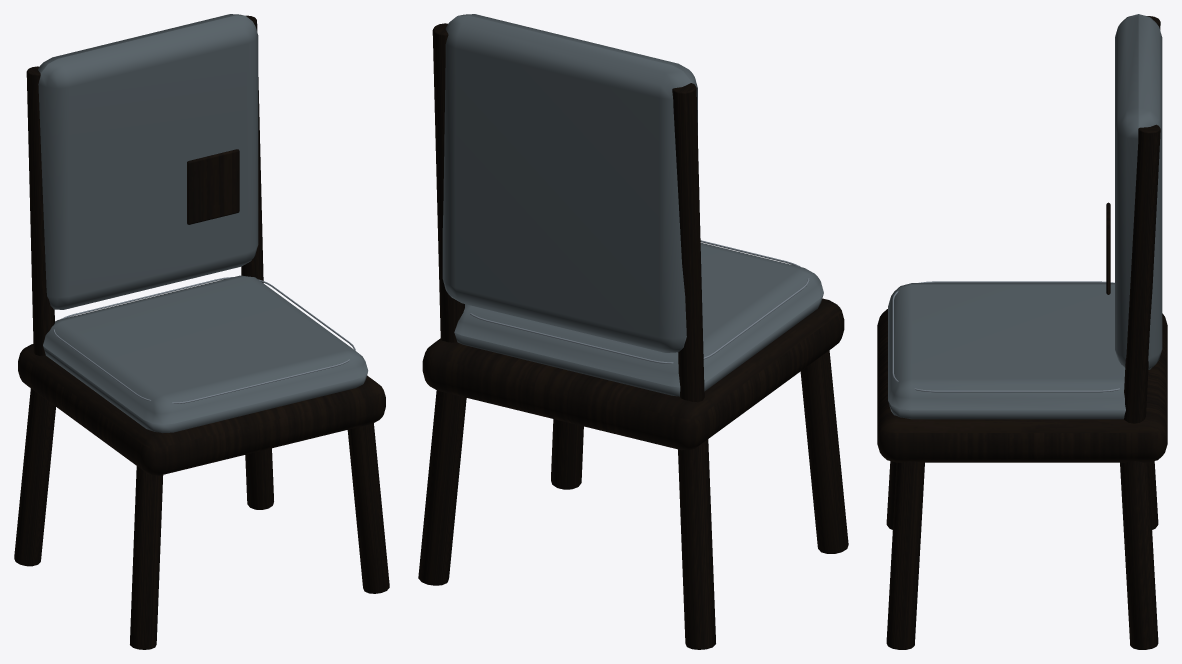
File: chair.glb
3 renders of one model, left to right at view 1: azimuth 30°, elevation 25°; view 2: azimuth 150°, elevation 25°; view 3: azimuth 270°, elevation 25°, orthographic. The views are drawn at different scales.
Visible parts, largest first — view 1: cyberpunk-back-room chair; view 2: cyberpunk-back-room chair; view 3: cyberpunk-back-room chair.
Part boxes in pixels (bbox=[...]): cyberpunk-back-room chair: bbox=[14, 14, 389, 649]; cyberpunk-back-room chair: bbox=[418, 14, 848, 649]; cyberpunk-back-room chair: bbox=[877, 14, 1167, 649].
Bounding box in the file's own units: 0.5907 × 1.1 × 0.55.
Materials: 3 (1 with a texture image).
